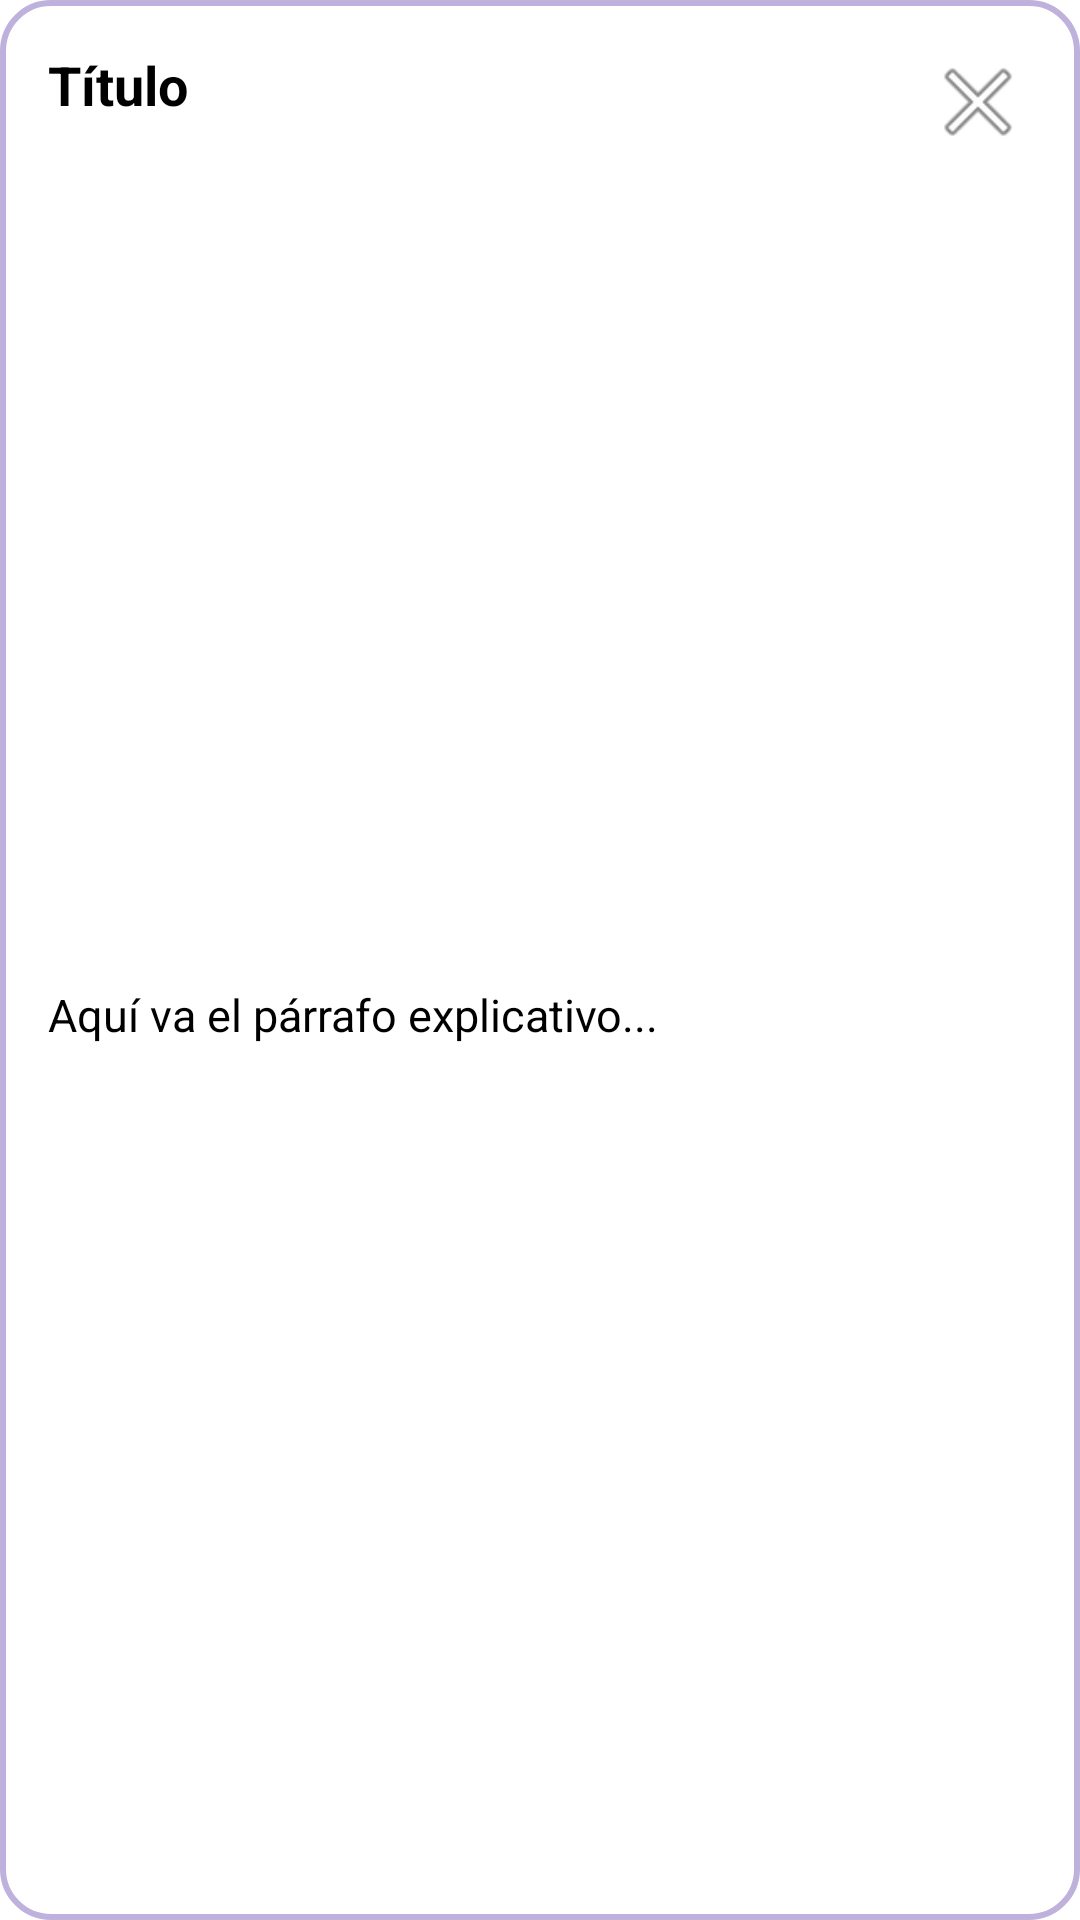

Where to tap for icons on this 1080px x 1920px app screen, as (x=x, y=y):
Cerrar: (x=978, y=102)
